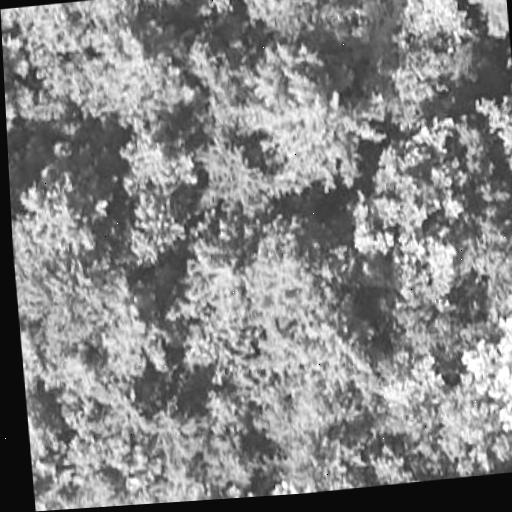tree-top: (157, 206, 377, 399), (353, 114, 512, 291), (239, 41, 388, 194), (43, 21, 202, 142), (243, 380, 354, 488), (430, 317, 512, 455), (8, 149, 114, 250), (360, 336, 458, 440), (22, 0, 151, 71), (56, 381, 143, 486), (13, 236, 105, 335), (96, 276, 174, 383), (109, 183, 192, 280), (130, 382, 206, 481), (220, 0, 364, 52), (189, 136, 274, 224), (192, 38, 262, 140), (111, 122, 204, 193), (197, 393, 263, 493), (375, 0, 482, 58), (31, 457, 140, 512), (24, 380, 68, 490), (360, 435, 422, 487), (466, 0, 510, 53)
